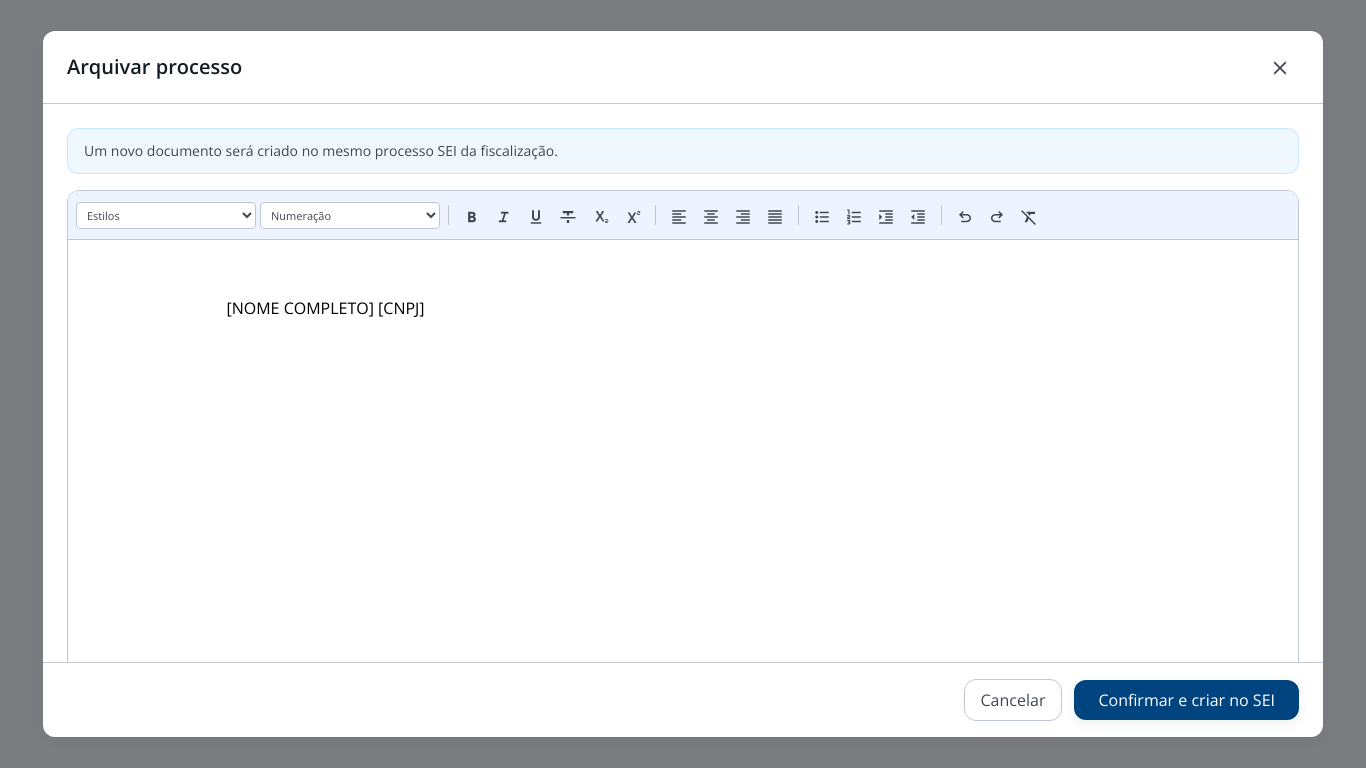
Scenario: DespachoModal - tratamento de erros da API SEI › mostra erro definitivo genérico quando não há processo criado
The image size is (1366, 768).
Check: the text box named "Editor do documento" is shown, box [68,240,1298,662]
Click the button "Confirmar e criar no SEI": [1187, 700] box [1074,680,1299,720]
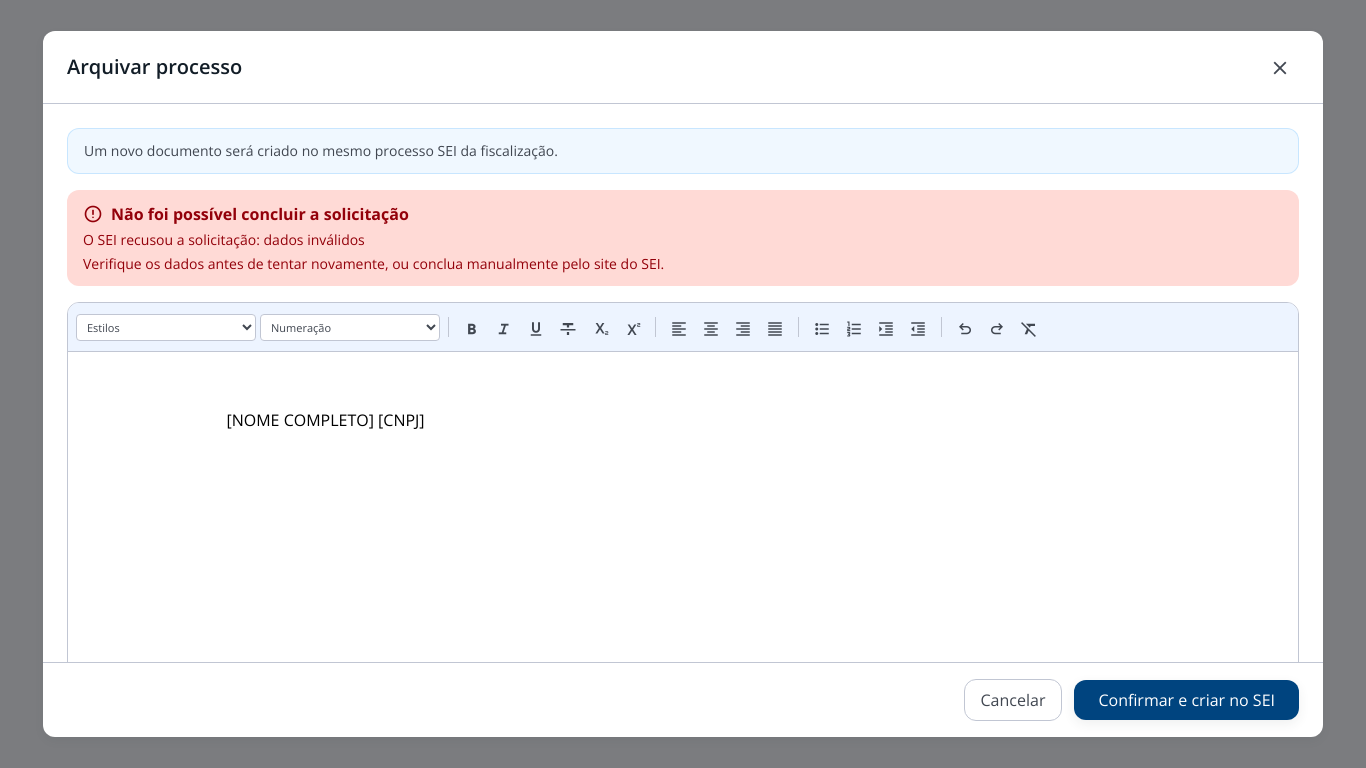
Check: the message is shown, box [67,190,1299,286]
Check: the text "Não foi possível concluir a solicitação" is shown, box [83,202,409,226]
